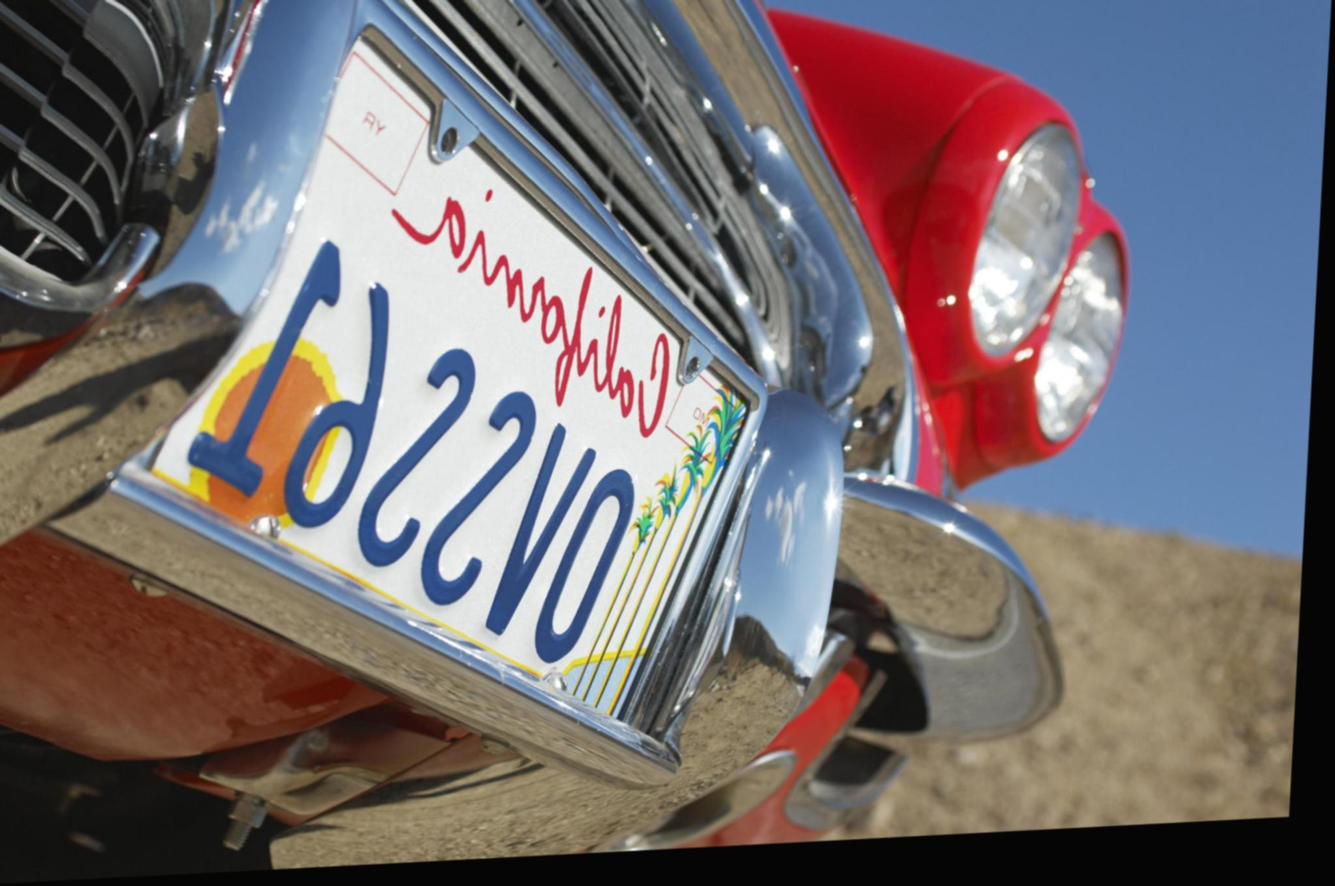License_Plate: (100, 10, 897, 718)
